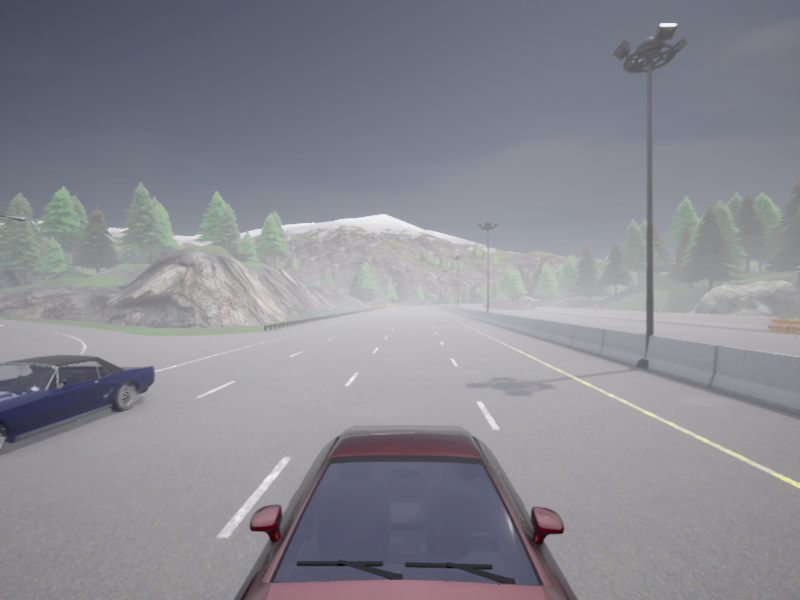vehicle: (234, 425, 577, 599), (0, 355, 155, 451), (454, 304, 458, 305)
